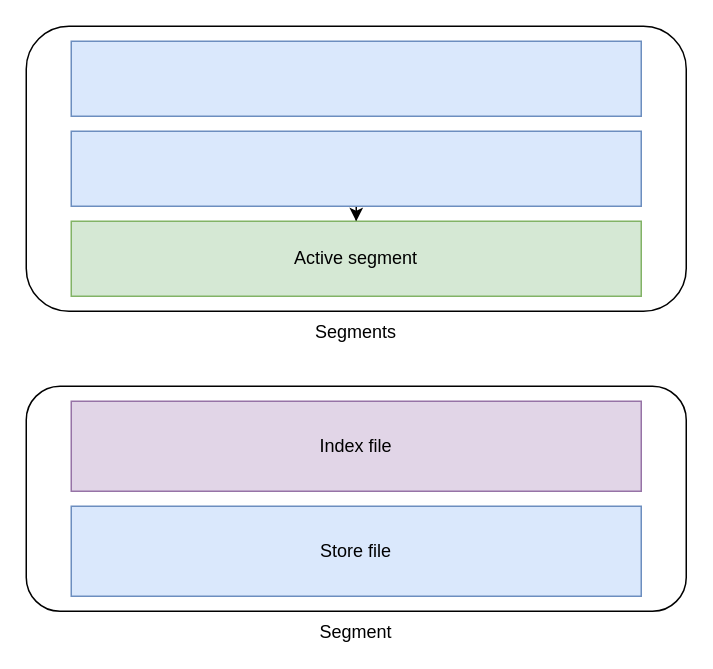
This 713x669 diagram has some shape labels left out. Here are the shapes that lost their labels. From the top down, the centre of each, then its label:
At (355,78): "Segment 1".
At (355,168): "Segment 2".
